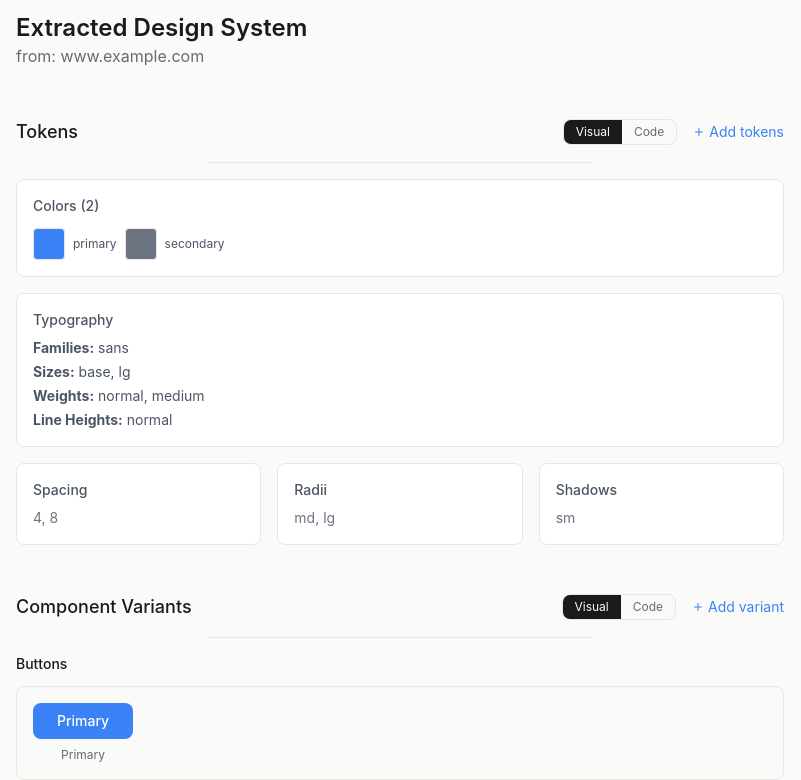
Test: ReviewStep › shows variant code in code view
# Click code button for variants section (second toggle)
Click the button "Code" in the row of "Component Variants" at (648, 607), box [621,595,675,619]
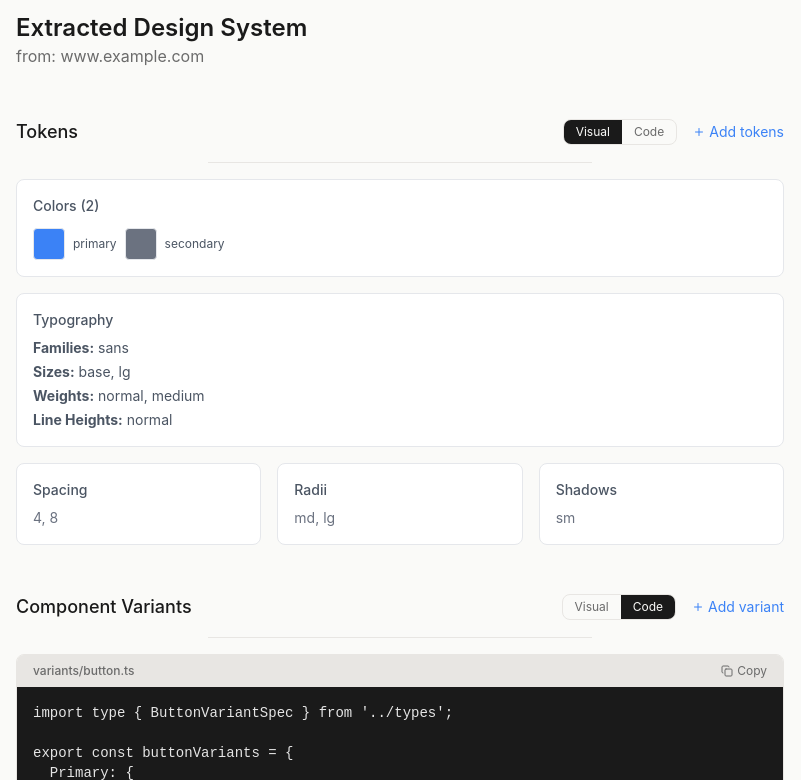
Expected: the text "variants/button.ts" is shown, [33,663,134,679]
